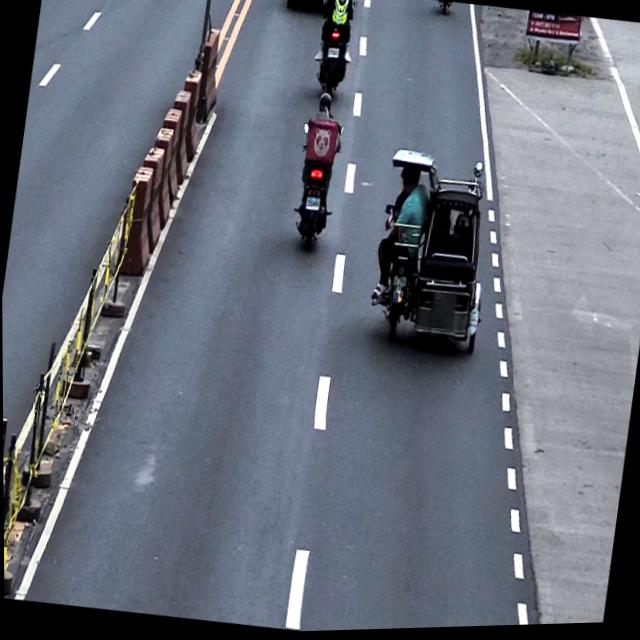License-Plate: (391, 276, 408, 293), (305, 198, 321, 214), (327, 48, 340, 61)
Motorcycle: (286, 117, 345, 254), (310, 0, 360, 100)
Tricycle: (363, 146, 502, 361)
